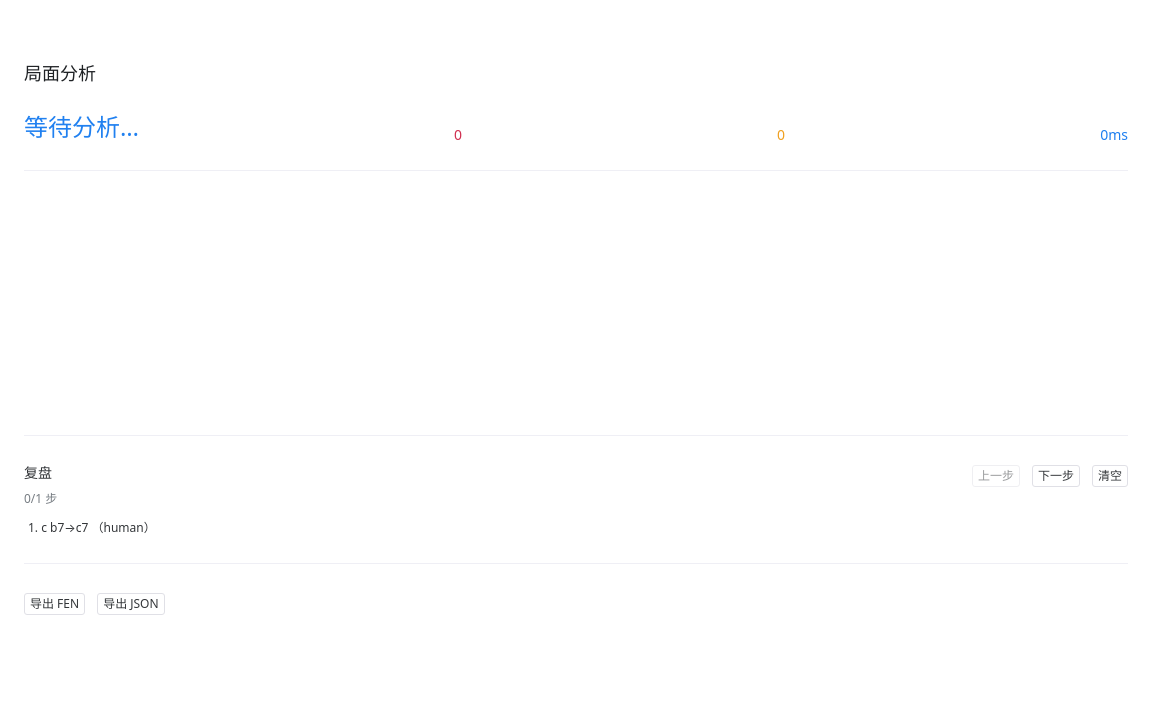
Scenario: Analyse › 复盘跳步失败显示可见错误
The image size is (1152, 720).
What coordinates should you click on to do the following:
click the button with test id "review-next"
I would click on:
 (1056, 476)
Its box is [1032,465,1080,487].
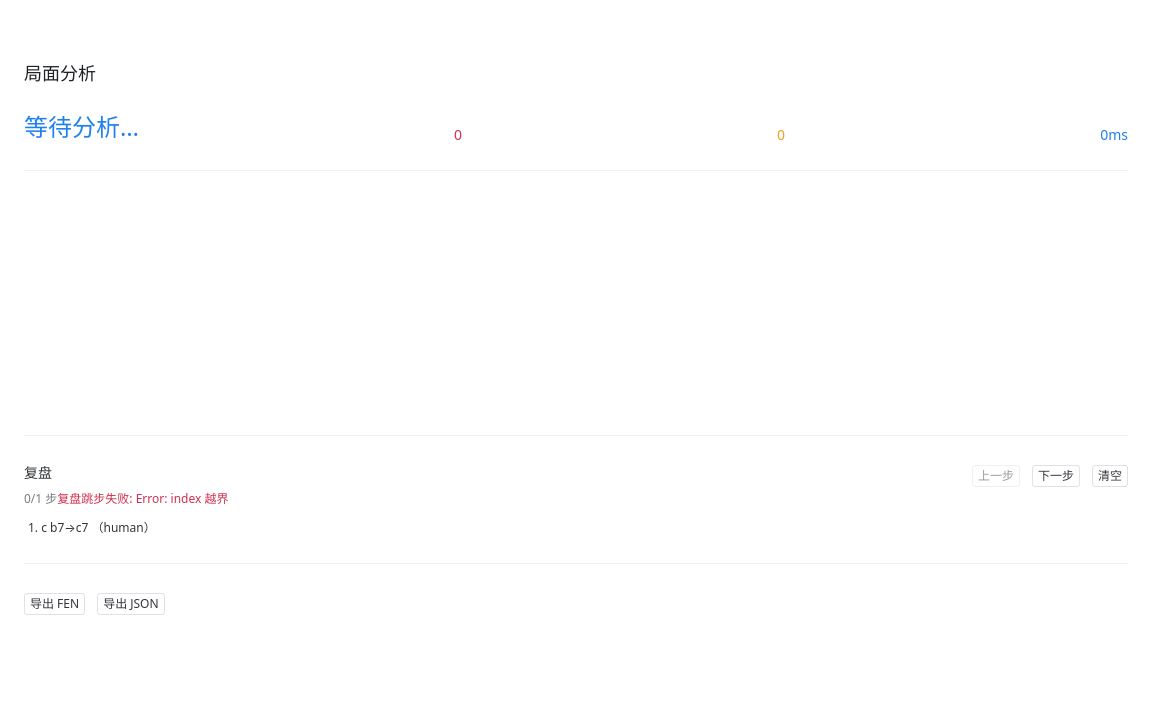
Now the text "复盘跳步失败" is shown, box [57,490,228,507]
